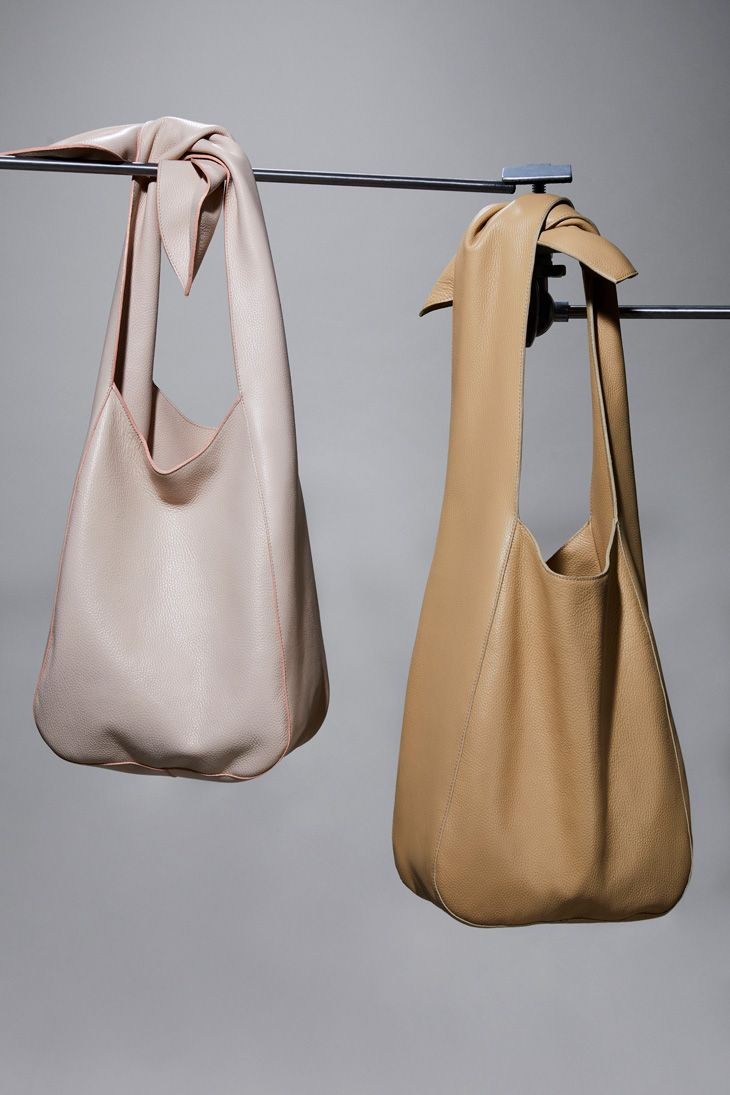cuero: (2, 116, 694, 927)
